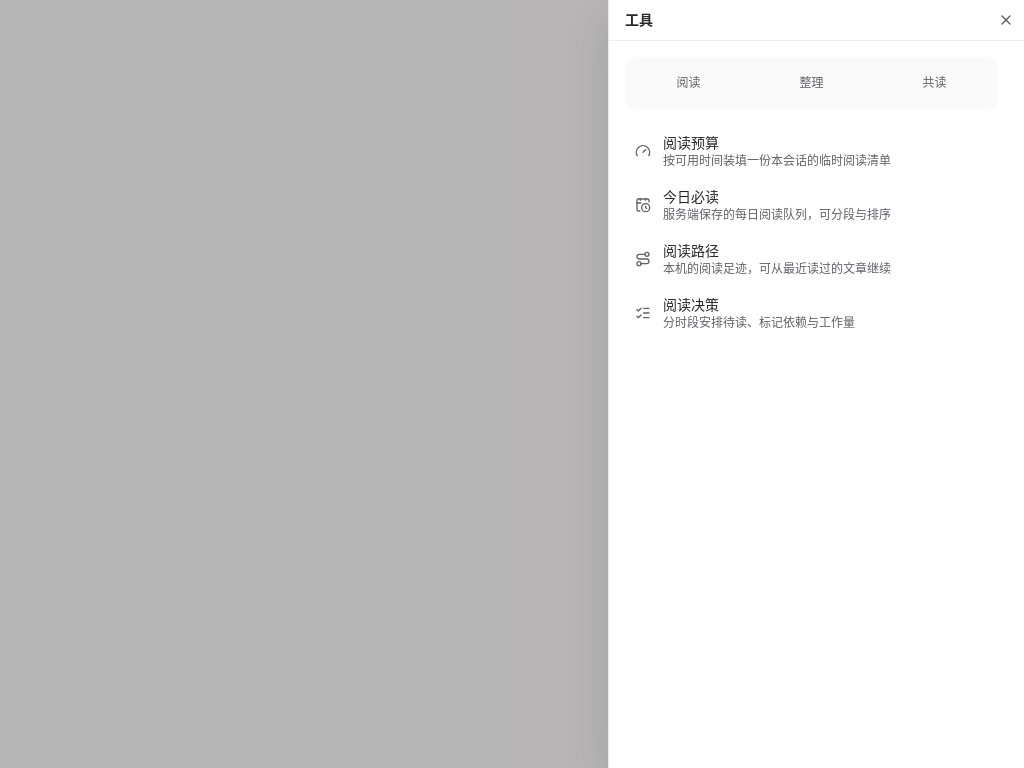
it: ToolsDrawer — 分组与九入口归属 › 整理组：积压整理；共读组：共读空间（三组 tab 全部非空）
The width and height of the screenshot is (1024, 768).
Click the tab "整理".
click(812, 83)  # box 752,61 -> 871,105
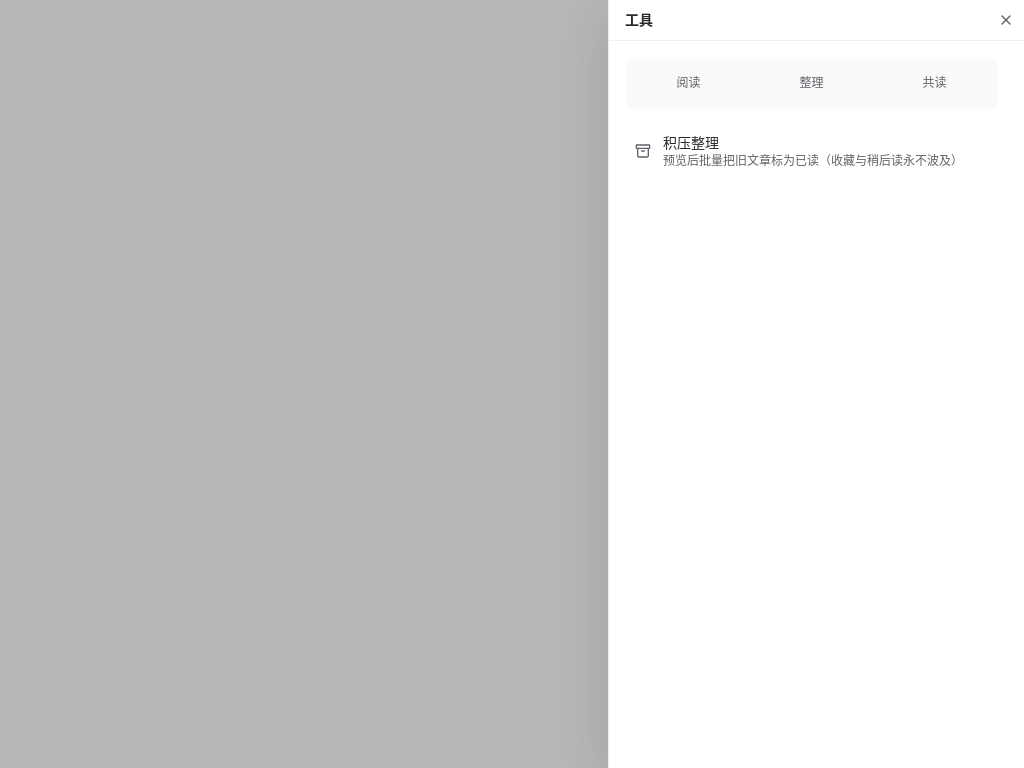
Now the button with test id "tools-drawer-item-backlog" shows "积压整理", box 625,125 -> 998,177
Now the button with test id "tools-drawer-item-budget" is gone
Click the tab "共读".
click(934, 83)  # box 875,61 -> 994,105
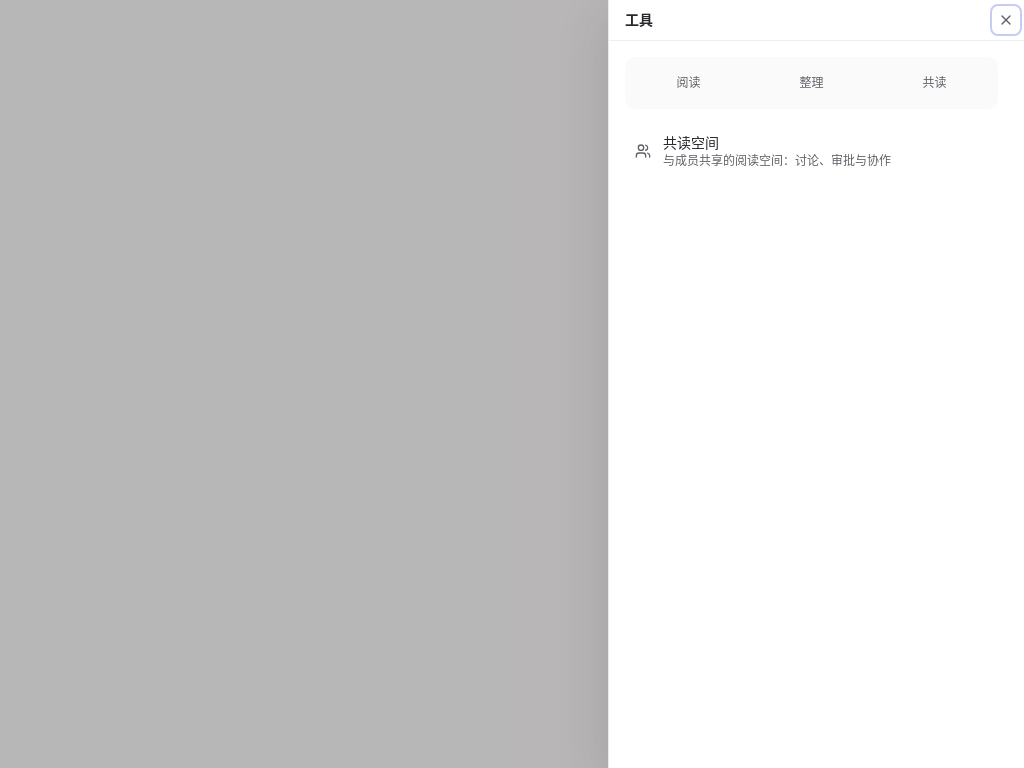
Now the button with test id "tools-drawer-item-space" shows "共读空间", box 625,125 -> 998,177
